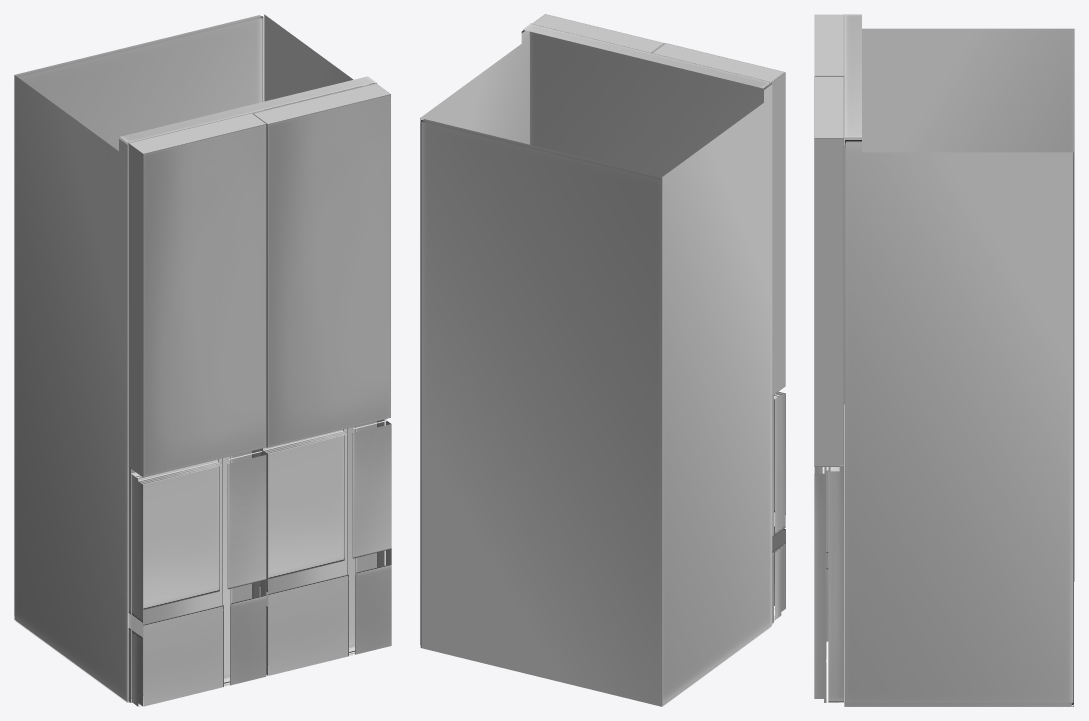
Rendered from fridge.obj.
The picture shows the model from 3 angles, left to right: view 1: azimuth 30°, elevation 25°; view 2: azimuth 150°, elevation 25°; view 3: azimuth 270°, elevation 25°; orthographic projection. The views are drawn at different scales.
Visible parts, largest first — view 1: Cube.001, Cube.003_Cube.001, Cube.003_Cube.004, Cube.002_Cube.005, Cube.001_Cube.006; view 2: Cube.001, Cube.003_Cube.001, Cube.002_Cube.005, Cube.003_Cube.004; view 3: Cube.001, Cube.003_Cube.004, Cube.001_Cube.006, Cube.003_Cube.001.
Boxes of the visible parts, x1,y1,x2,y2 form: Cube.001: [14, 14, 377, 702]; Cube.003_Cube.001: [128, 113, 266, 477]; Cube.003_Cube.004: [253, 83, 390, 447]; Cube.002_Cube.005: [128, 449, 266, 706]; Cube.001_Cube.006: [259, 419, 391, 675]; Cube.001: [420, 23, 772, 706]; Cube.003_Cube.001: [652, 43, 785, 395]; Cube.002_Cube.005: [772, 391, 785, 623]; Cube.003_Cube.004: [532, 14, 664, 52]; Cube.001: [844, 14, 1074, 706]; Cube.003_Cube.004: [814, 77, 843, 466]; Cube.001_Cube.006: [814, 465, 843, 702]; Cube.003_Cube.001: [814, 14, 844, 404].
Size of the model in its own units: 0.89 by 1.91 by 0.7909.
